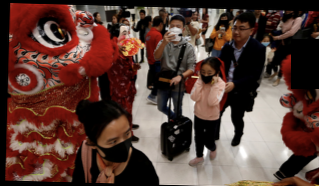with_mask: (97, 125, 134, 162), (198, 65, 216, 85), (119, 28, 132, 47), (169, 22, 183, 39), (261, 38, 271, 46), (123, 21, 131, 31), (220, 15, 228, 24)
without_mask: (230, 21, 251, 40), (192, 11, 199, 20), (139, 11, 147, 18), (95, 13, 102, 20), (112, 15, 118, 23), (202, 8, 207, 13)
